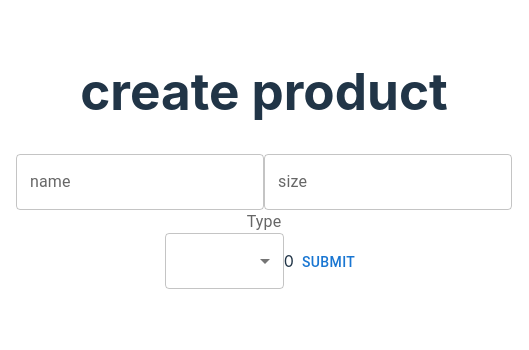
Scenario: when the user submits the form › should display validation messages
Expected: the text "the name is required" is not shown
Expected: the text "the size is required" is not shown
Click the button "Submit" at {"x": 329, "y": 262}, box [294,244,363,280]
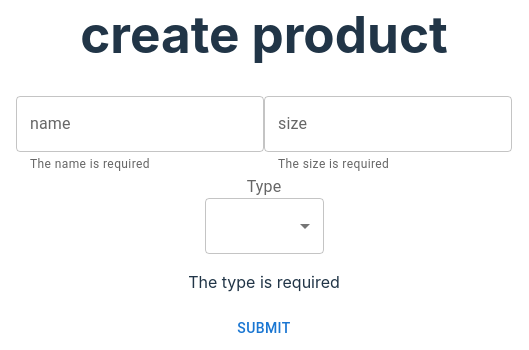
Result: the text "The name is required" is shown at [30,157,150,171]
Result: the text "The size is required" is shown at [278,157,389,171]
Result: the text "The type is required" is shown at [188,272,340,292]
